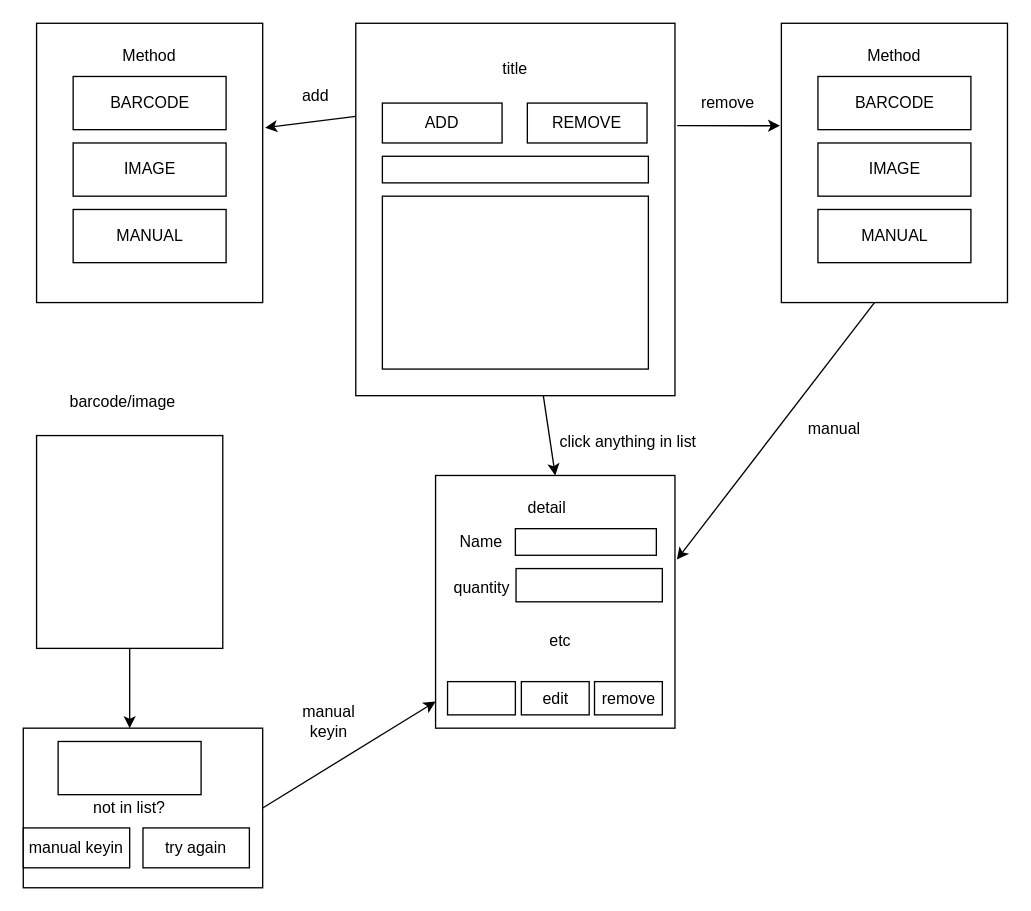
Some shapes in this 1031 by 911 pixel diagram are drawn without their labels. The box of each missing label's shape, as (x1, y1, x2, y2) in pixels:
back: (446, 680, 515, 715)
list in table form (no, name, type, expiry date): (381, 195, 648, 369)
possible item list: (57, 740, 201, 795)
search bar: (381, 155, 648, 183)
